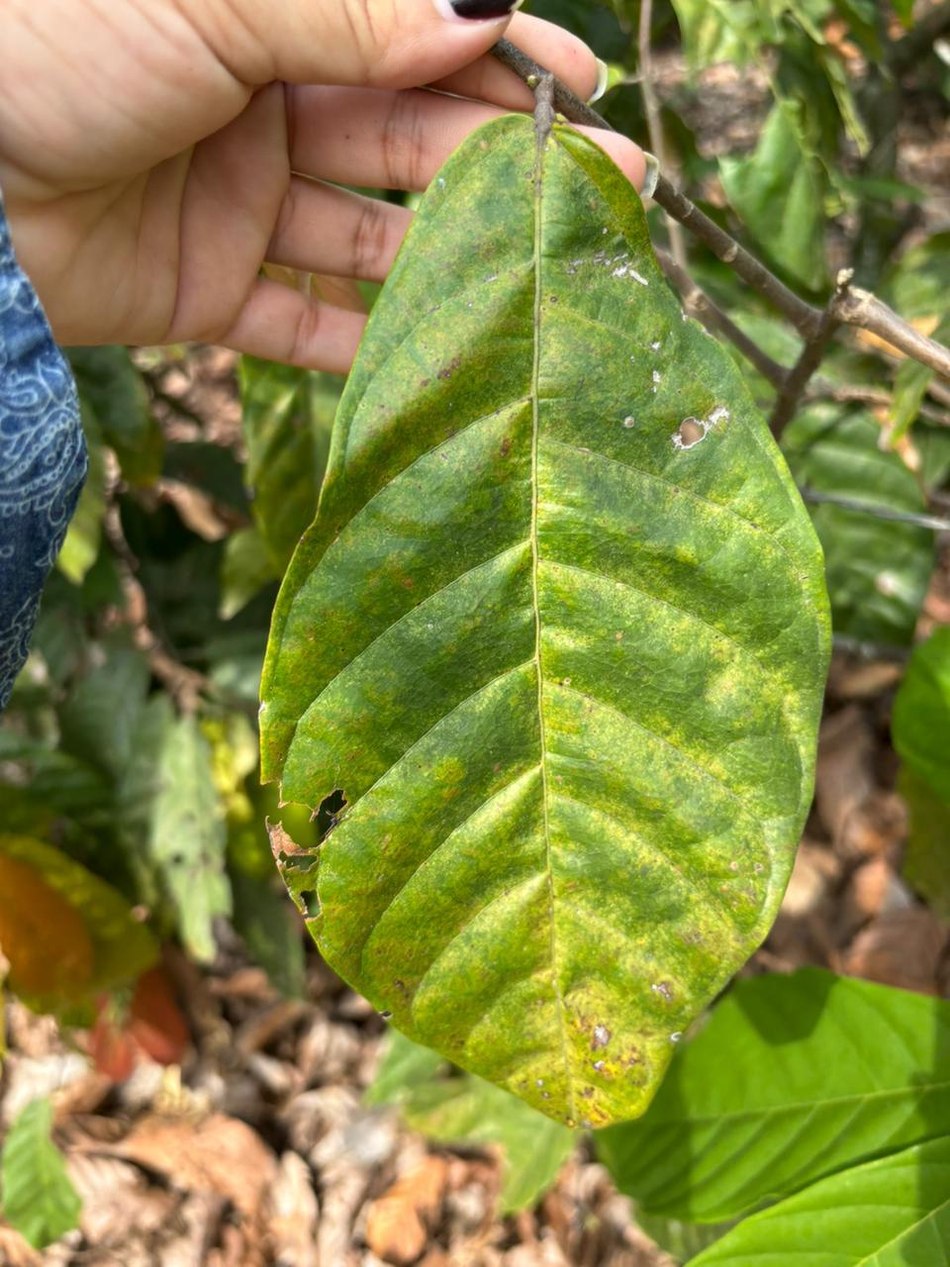deficienciia_fosforo: (261, 116, 828, 1125)
